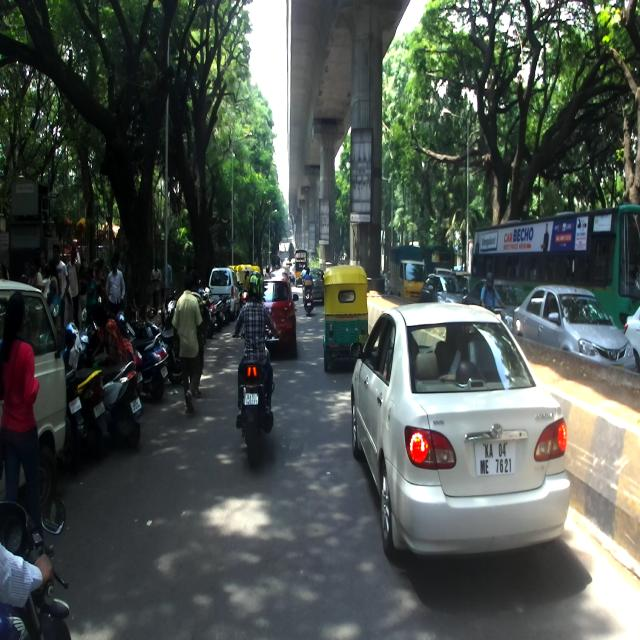auto ahead at: (321, 264, 364, 362)
car ahead at: (351, 305, 572, 564)
motorcycle ahead at: (232, 353, 280, 468), (79, 364, 109, 457)
person ahead at: (3, 293, 42, 506), (172, 275, 206, 419)
